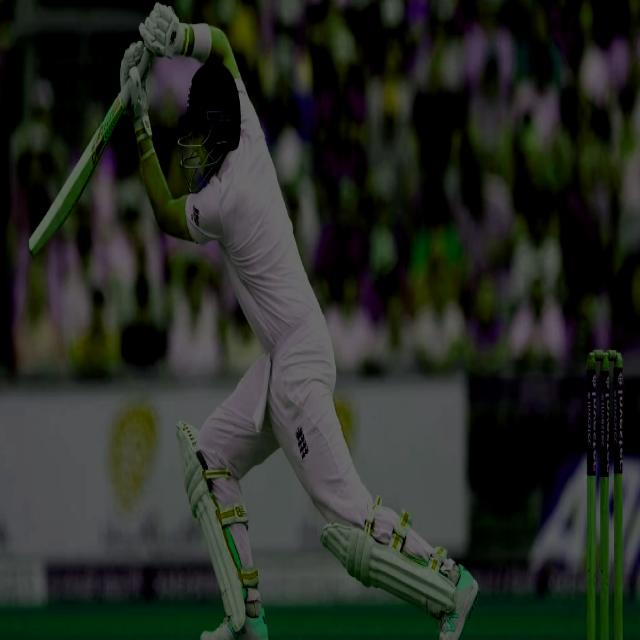toe: (26, 205, 64, 254)
